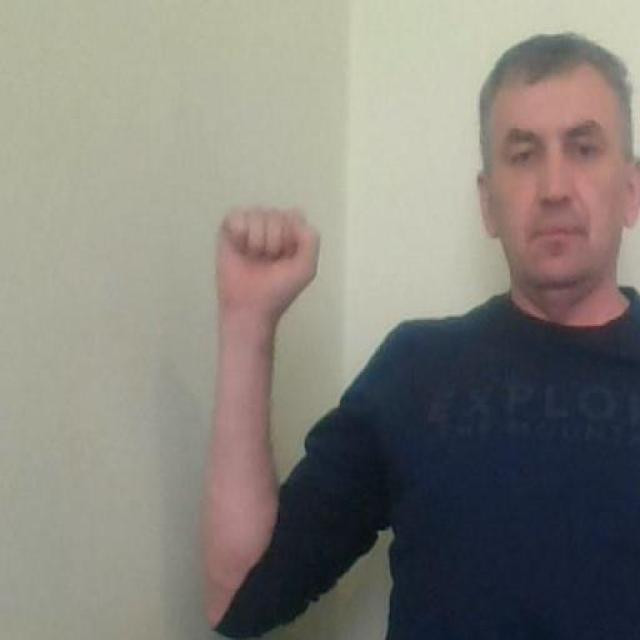hand: (214, 202, 320, 329)
